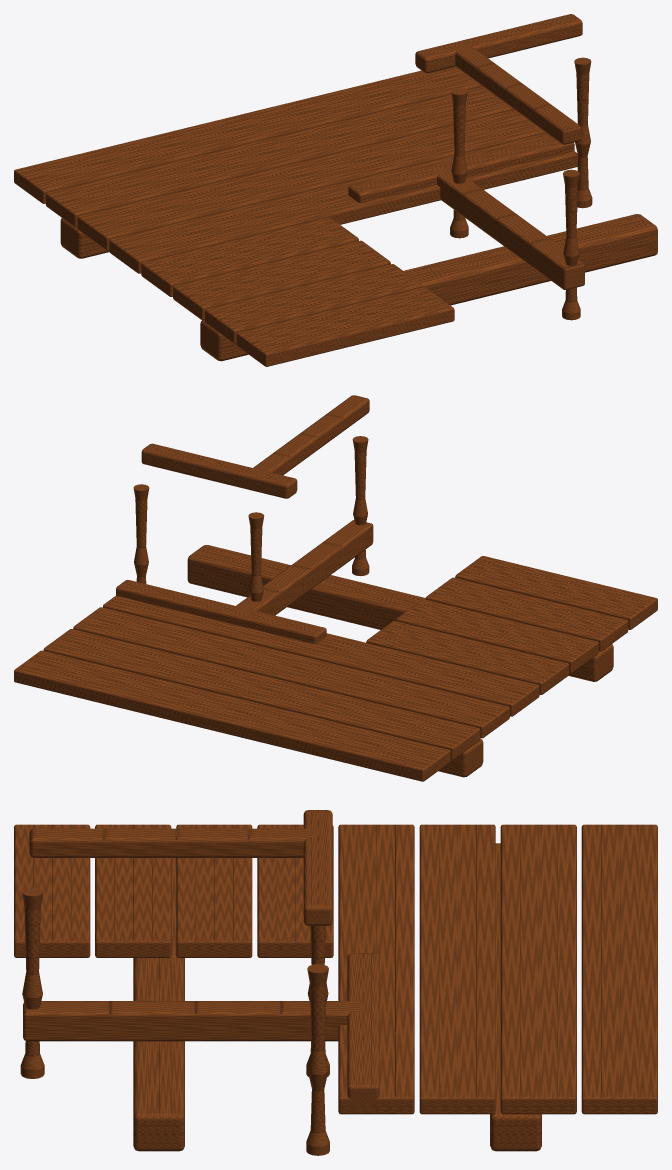
The model's file is witch-cottage-and-apothecary-loft-floor-slab-with-hatc-4cc6583c__32438.glb.
3 renders of one model, top to bottom at view 1: azimuth 30°, elevation 25°; view 2: azimuth 150°, elevation 25°; view 3: azimuth 270°, elevation 25°, orthographic. The views are drawn at different scales.
Parts seen in each view (by area): view 1: loft-floor-slab-with-hatch; view 2: loft-floor-slab-with-hatch; view 3: loft-floor-slab-with-hatch.
Boxes of the visible parts, x1,y1,x2,y2 form: loft-floor-slab-with-hatch: [14, 14, 657, 366]; loft-floor-slab-with-hatch: [14, 395, 657, 781]; loft-floor-slab-with-hatch: [14, 810, 657, 1155].
Size of the model in its own units: 2.02 by 0.8199 by 1.99.
1 material, 1 textured.
